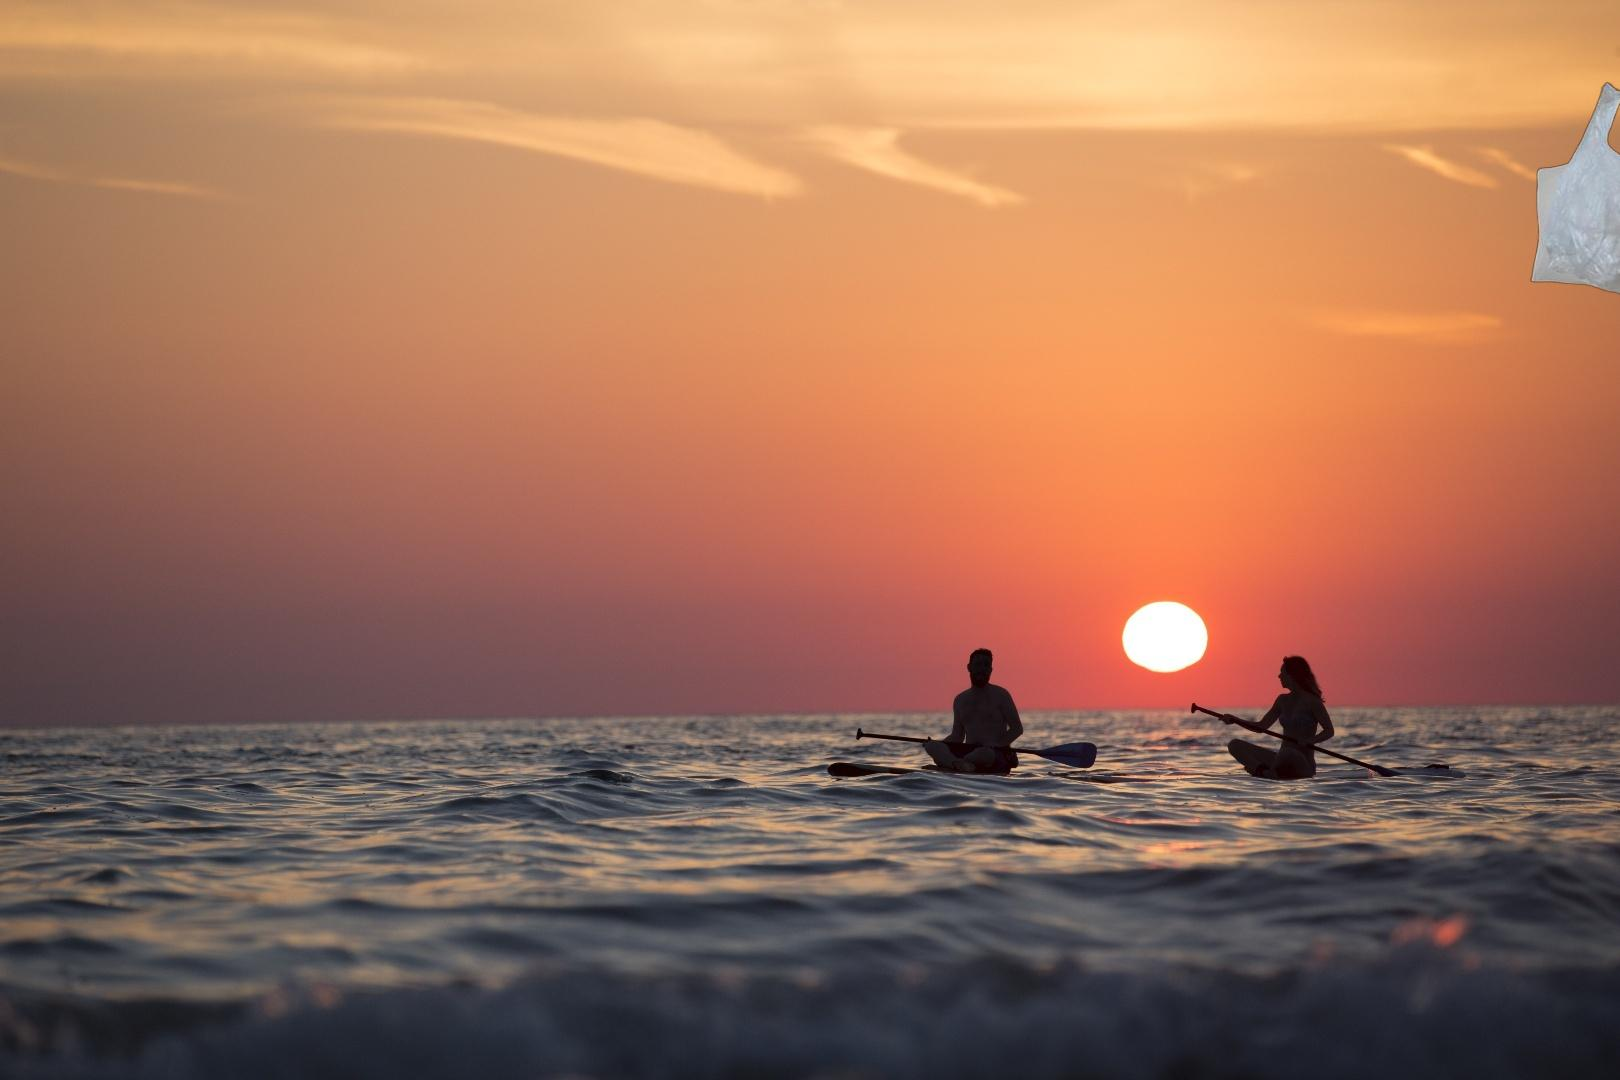plastic-bag: (1528, 80, 1620, 305)
